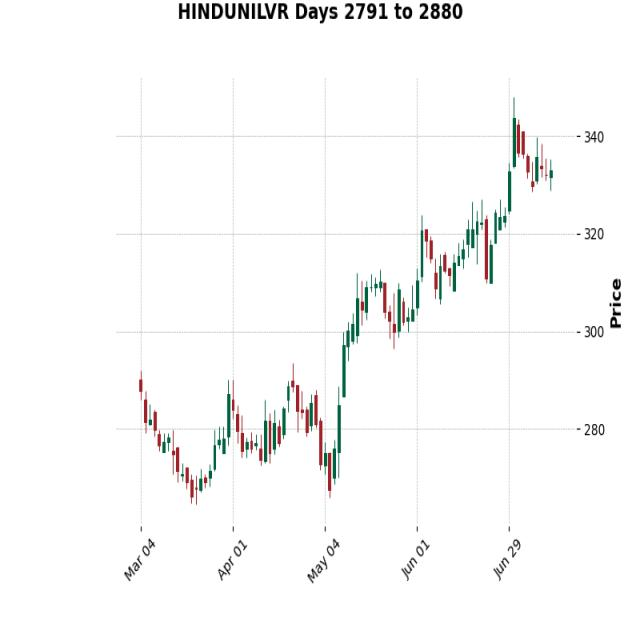Triple Bottom Reversal: (124, 377, 366, 503)
